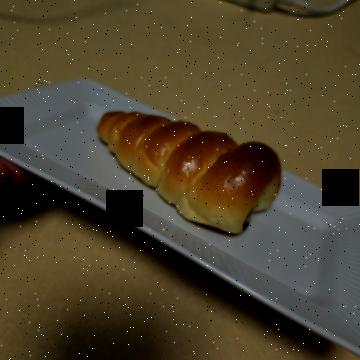cream horn: (90, 66, 244, 272)
